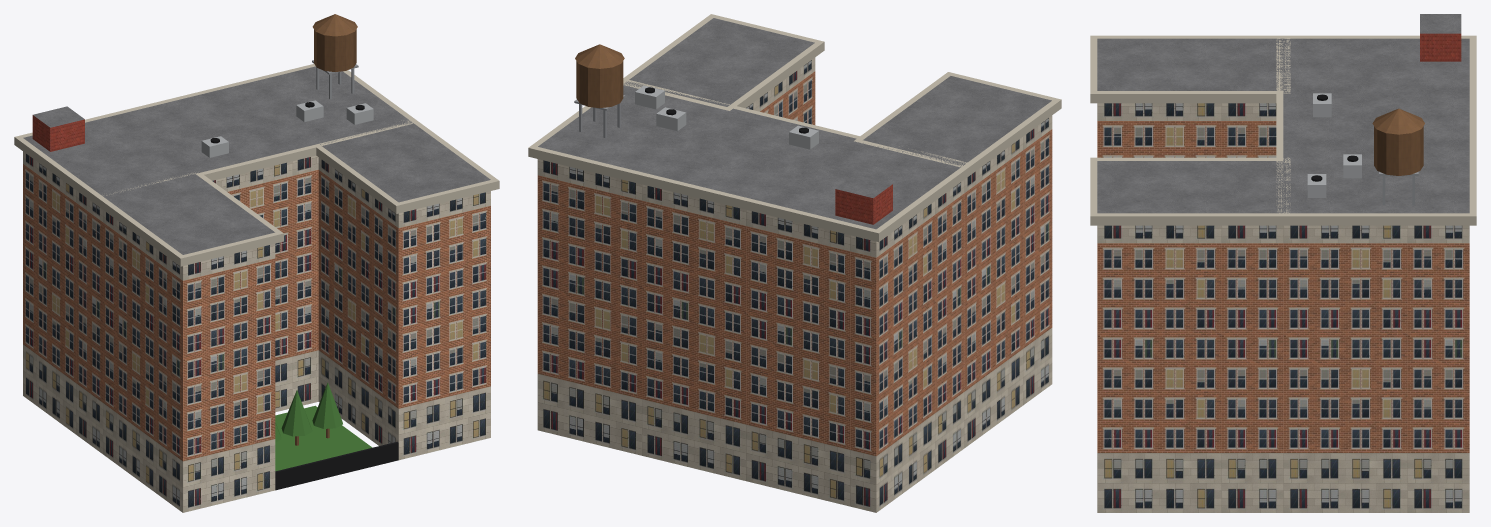
File: 019_courtyard_brick.glb
3 views of the same model, side by side, from view 1: azimuth 30°, elevation 25°; view 2: azimuth 150°, elevation 25°; view 3: azimuth 270°, elevation 25° (orthographic). The views are drawn at different scales.
Visible parts, largest first — view 1: 019_courtyard_brick; view 2: 019_courtyard_brick; view 3: 019_courtyard_brick.
Part boxes in pixels (x1,y1,x2,y2): 019_courtyard_brick: (14,14,499,512); 019_courtyard_brick: (528,14,1061,512); 019_courtyard_brick: (1090,14,1476,512).
Size of the model in its own units: 41.4 by 41.6 by 37.4.
Materials: 11 (5 with a texture image).
